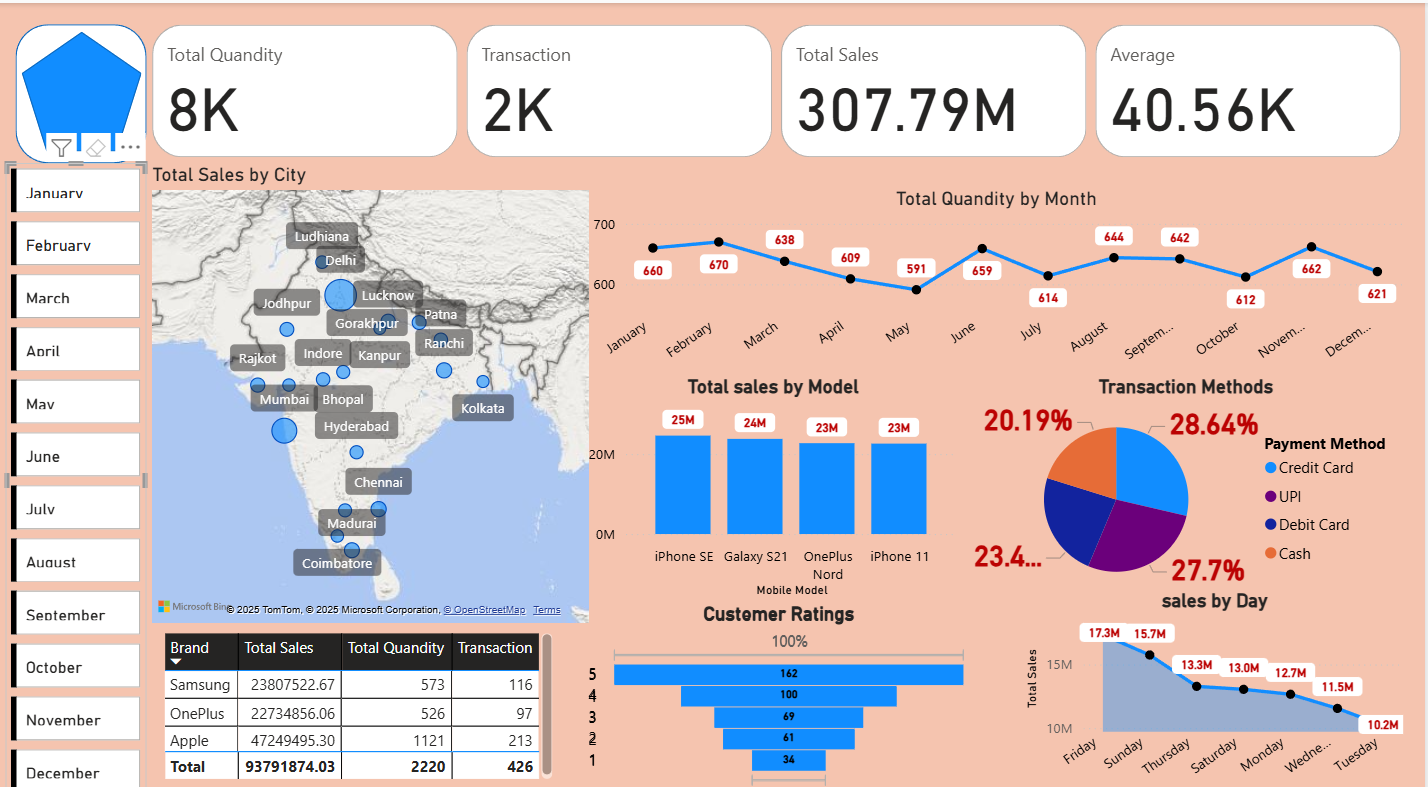

The page's visual inventory and layout, read from the dashboard file:
{"tool":"powerbi","page":{"name":"Page 1","canvas":[1280,720],"ordinal":0},"visuals":[{"type":"shape","box":[24.2,18.5,116.8,123.9],"z":0},{"type":"shape","box":[29.9,25.6,106.8,106.8],"z":1000},{"type":"advancedSlicerVisual","fields":{"Values":["Sales_Data.Date.Variation.Date Hierarchy.Month"]},"box":[15.7,142.4,125.3,566.7],"z":2000},{"type":"cardVisual","fields":{"Data":["Sales_Data.Total Quandity","Sales_Data.Transaction","Sales_Data.Total Sales","Sales_Data.Average"]},"box":[141,14.2,1124.8,128.1],"z":3000},{"type":"map","fields":{"Category":["Sales_Data.City"],"Size":["Sales_Data.Total Sales"]},"box":[141,142.4,398.7,414.3],"z":4000},{"type":"lineChart","title":"Total Quandity by Month","fields":{"Y":["Sum(Sales_Data.Units Sold)"],"Category":["Sales_Data.Date.Variation.Date Hierarchy.Month","Sales_Data.Date.Variation.Date Hierarchy.Day"]},"box":[529.7,163.7,736.1,168],"z":5000},{"type":"clusteredColumnChart","title":"Total sales by Model","fields":{"Category":["Sales_Data.Mobile Model"],"Y":["Sales_Data.Total Sales"]},"box":[529.7,331.7,338.9,202.2],"z":5001},{"type":"pieChart","title":"Transaction Methods","fields":{"Category":["Sales_Data.Payment Method"],"Y":["Sales_Data.Transaction"]},"box":[868.5,331.7,397.2,202.2],"z":5002},{"type":"funnel","title":"Custemer Ratings","fields":{"Category":["Sales_Data.Customer Ratings"],"Y":["CountNonNull(Sales_Data.Customer Ratings)"]},"box":[529.7,533.9,348.8,186.5],"z":5003},{"type":"funnel","title":"Customer Ratings","fields":{"Category":["Sales_Data.Customer Ratings"],"Y":["CountNonNull(Sales_Data.Customer Ratings)"]},"box":[529.7,533.5,348.8,186.5],"z":5004},{"type":"areaChart","title":"sales by Day","fields":{"Category":["Sales_Data.Day Name.1"],"Y":["Sales_Data.Total Sales"]},"box":[919.8,522.5,346,197.9],"z":5005},{"type":"tableEx","title":"Customer Ratings","fields":{"Values":["Sales_Data.Brand","Sales_Data.Total Sales","Sales_Data.Total Quandity","Sales_Data.Transaction"]},"box":[150.9,556.7,356,139.5],"z":5006}]}

Visuals, with their boxes on the page's 1280x720 design canvas (x1, y1, x2, y2). These are canvas units, not pixel positions in the 1428x787 screenshot, which may show the page scaled, cropped or inside an application window:
shape: {"x1": 24, "y1": 18, "x2": 141, "y2": 142}
shape: {"x1": 30, "y1": 26, "x2": 137, "y2": 132}
advancedSlicerVisual - Sales_Data.Date.Variation.Date Hierarchy.Month: {"x1": 16, "y1": 142, "x2": 141, "y2": 709}
cardVisual - Sales_Data.Total Quandity x Sales_Data.Transaction: {"x1": 141, "y1": 14, "x2": 1266, "y2": 142}
map - Sales_Data.City x Sales_Data.Total Sales: {"x1": 141, "y1": 142, "x2": 540, "y2": 557}
"Total Quandity by Month" lineChart: {"x1": 530, "y1": 164, "x2": 1266, "y2": 332}
"Total sales by Model" clusteredColumnChart: {"x1": 530, "y1": 332, "x2": 869, "y2": 534}
"Transaction Methods" pieChart: {"x1": 868, "y1": 332, "x2": 1266, "y2": 534}
"Custemer Ratings" funnel: {"x1": 530, "y1": 534, "x2": 878, "y2": 720}
"Customer Ratings" funnel: {"x1": 530, "y1": 534, "x2": 878, "y2": 720}
"sales by Day" areaChart: {"x1": 920, "y1": 522, "x2": 1266, "y2": 720}
"Customer Ratings" tableEx: {"x1": 151, "y1": 557, "x2": 507, "y2": 696}
